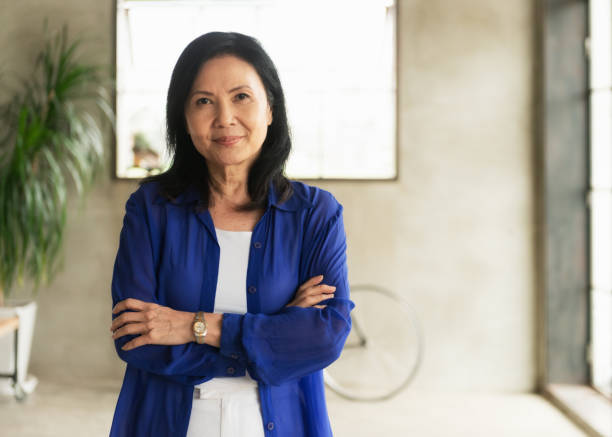face: (189, 72, 270, 162)
